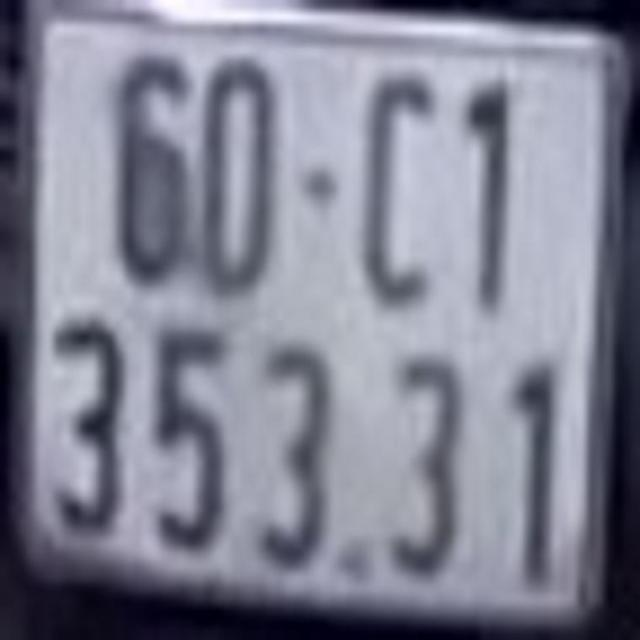0: (204, 56, 271, 296)
1: (463, 74, 508, 313), (516, 358, 561, 596)
3: (259, 339, 330, 567), (53, 317, 126, 538), (397, 350, 463, 575)
5: (152, 320, 226, 550)
6: (121, 50, 195, 279)
C: (364, 73, 444, 305)
